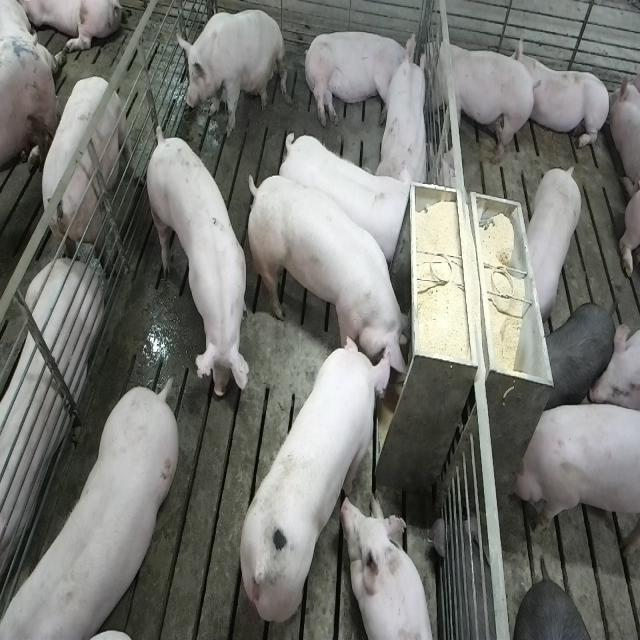Feeding: (237, 332, 395, 625), (250, 173, 417, 390)
Lateral_lying: (301, 28, 418, 129)
Sitting: (175, 8, 286, 138)
Standing: (0, 383, 176, 640), (143, 129, 247, 413), (34, 75, 130, 280), (514, 396, 638, 554), (278, 127, 412, 262), (422, 29, 537, 167), (525, 157, 587, 320), (542, 299, 615, 414)
Sternal_lying: (0, 259, 100, 600), (344, 493, 437, 640), (522, 36, 610, 152), (378, 50, 432, 190)
